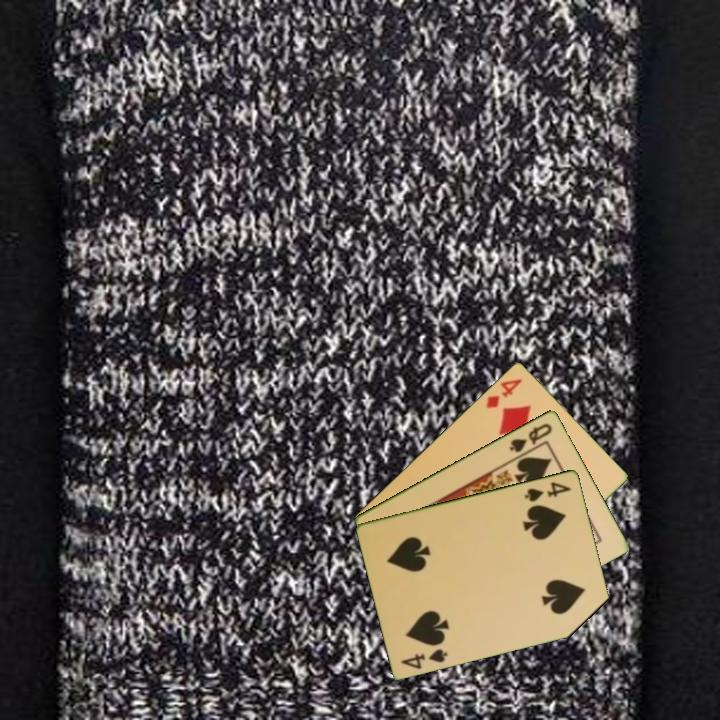4d: (482, 375, 525, 411)
4s: (398, 645, 451, 672), (521, 478, 574, 504)
Qs: (506, 419, 555, 455)
